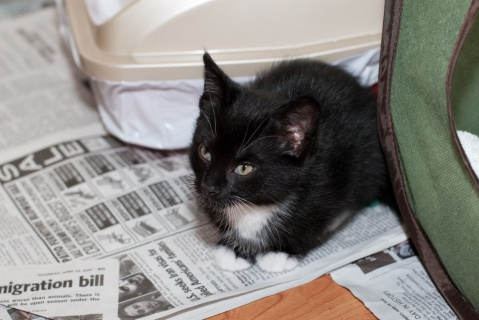Cat: (173, 44, 397, 272)
